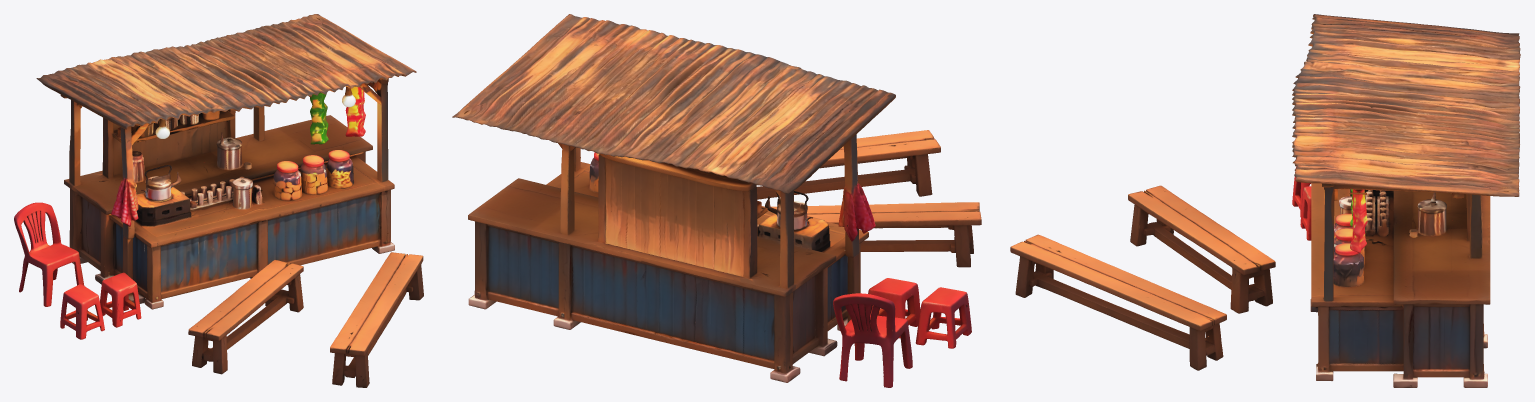
File: chai-stall.glb
The picture shows the model from 3 angles, left to right: view 1: azimuth 30°, elevation 25°; view 2: azimuth 150°, elevation 25°; view 3: azimuth 270°, elevation 25°; orthographic projection. The views are drawn at different scales.
Parts seen in each view (by area): view 1: model; view 2: model; view 3: model.
Part boxes in pixels (left/top/right/bottom): model: left=14, top=14, right=423, bottom=387; model: left=452, top=14, right=981, bottom=387; model: left=1010, top=14, right=1520, bottom=387.
Size of the model in its own units: 1.67 by 0.9152 by 1.9.
1 material, 1 textured.
